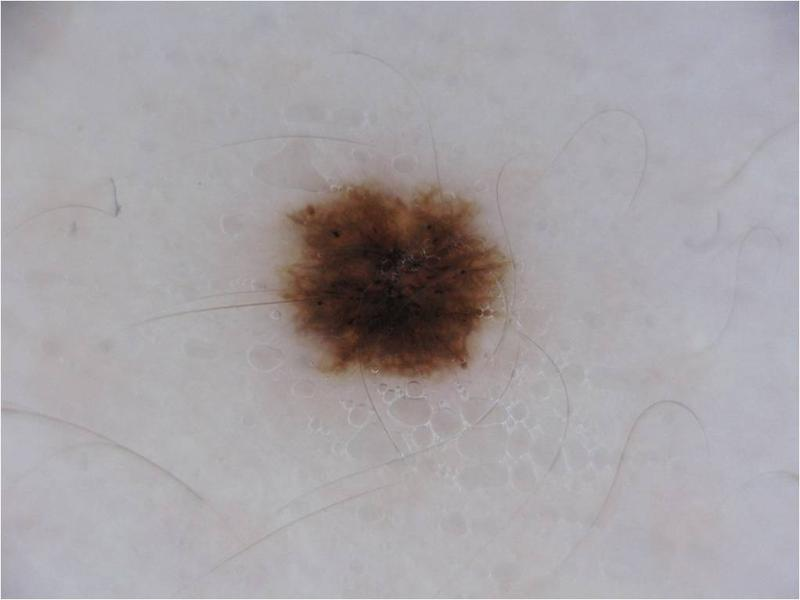Benign: (293, 207, 497, 377)
